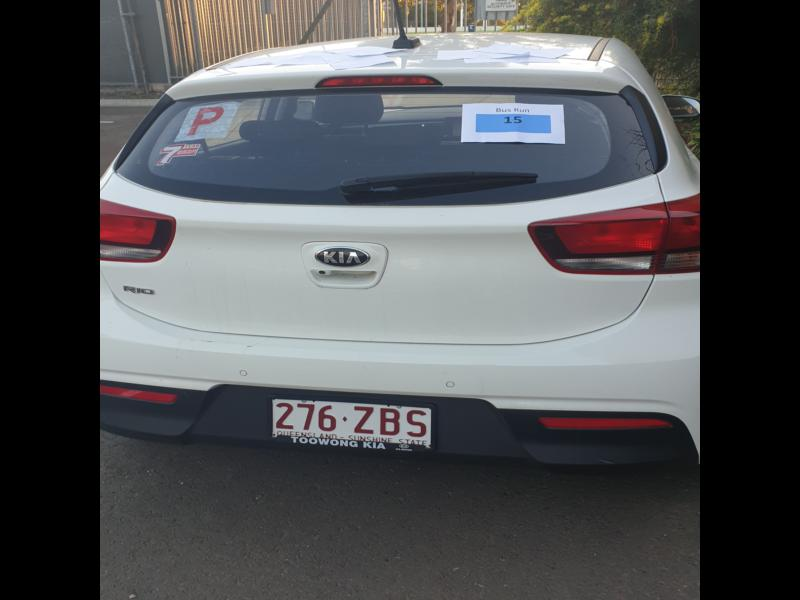BusRun: (476, 113, 553, 132)
PlateNo: (270, 398, 435, 441)
